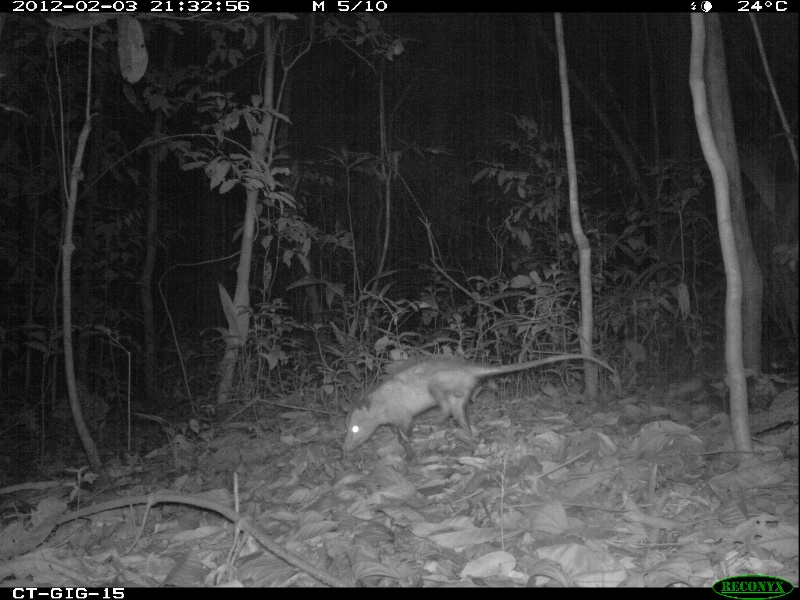opossum: (337, 340, 622, 463)
